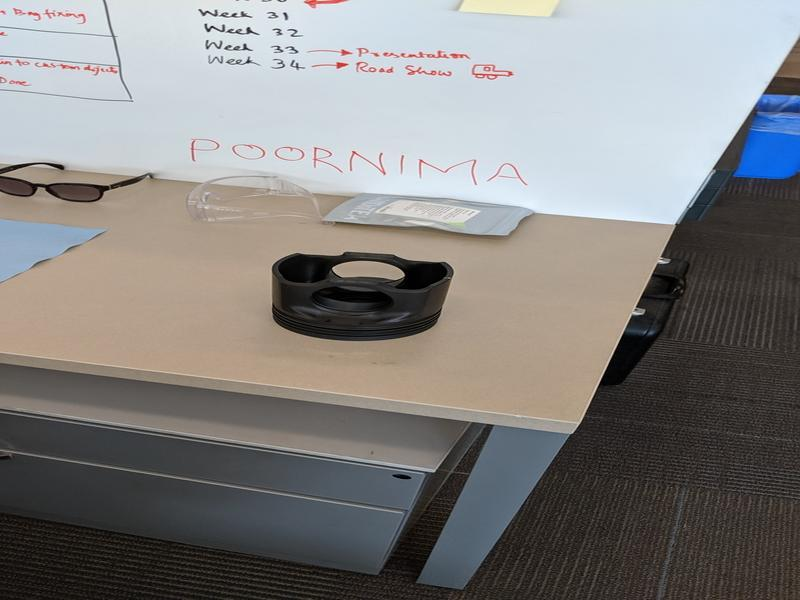piston: (269, 247, 457, 345)
